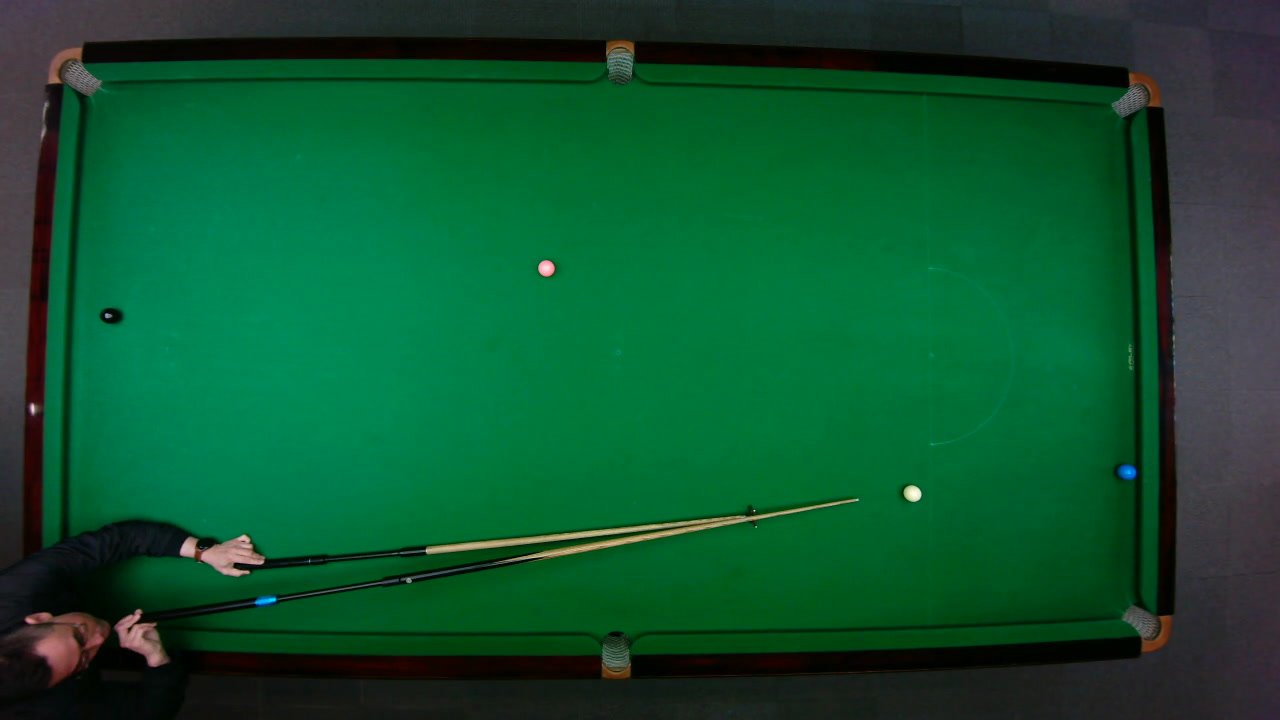bag: (45, 46, 102, 96), (1119, 603, 1172, 652), (1108, 71, 1162, 118), (600, 629, 629, 680), (605, 38, 633, 85)
black: (98, 306, 120, 324)
blue: (1115, 462, 1137, 480)
cue: (391, 497, 863, 582)
pink: (536, 258, 555, 277)
white: (901, 483, 922, 502)
zone: (927, 265, 1013, 445)
